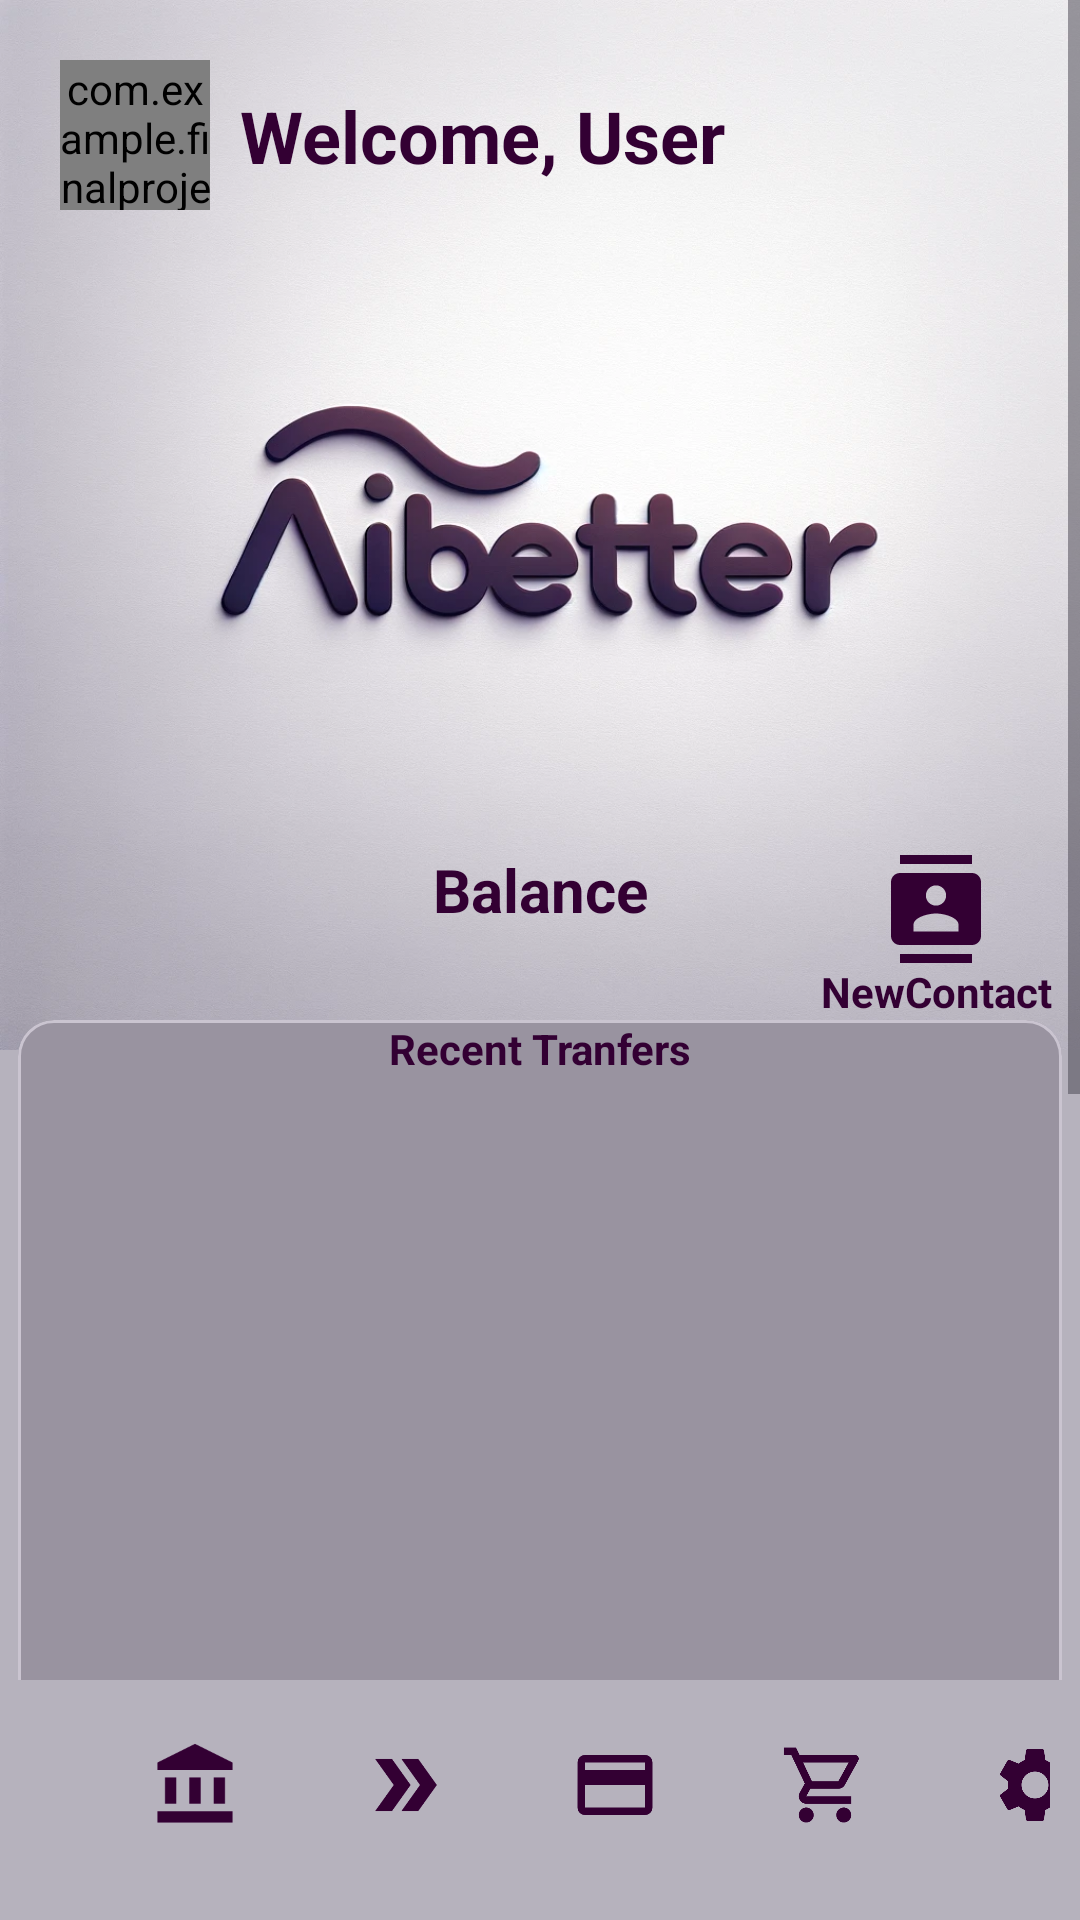

Locate icon controls on the screen. Image size 1080 x 1920, boxes as (x1, y1, x2, y2).
Balance Page Icon: (157, 1744, 233, 1823)
cards icon: (577, 1755, 653, 1815)
products icon: (784, 1747, 859, 1823)
Transfers Icon: (375, 1759, 437, 1811)
